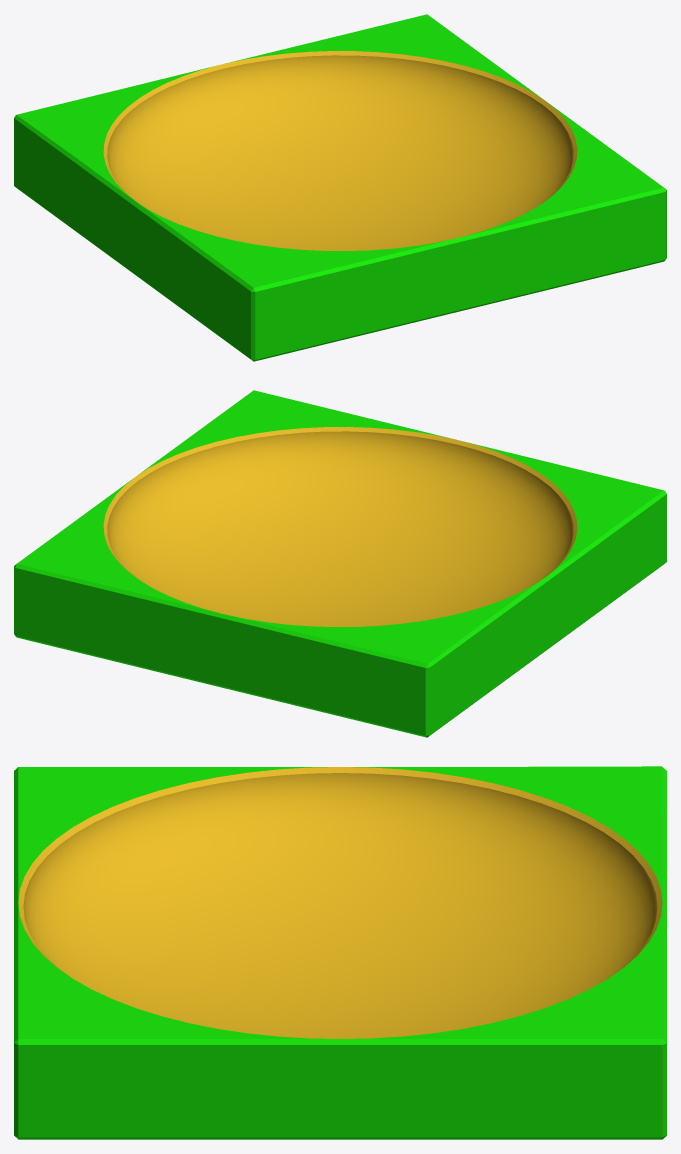
Rendered from arena.fbx.
3 renders of one model, top to bottom at view 1: azimuth 30°, elevation 25°; view 2: azimuth 150°, elevation 25°; view 3: azimuth 270°, elevation 25°, orthographic. The views are drawn at different scales.
Visible parts, largest first — view 1: Arena; view 2: Arena; view 3: Arena.
Part boxes in pixels (x1,y1,x2,y2): Arena: (14, 14, 666, 361); Arena: (14, 390, 666, 737); Arena: (14, 766, 666, 1139).
Size of the model in its own units: 78.65 by 13.34 by 78.65.
